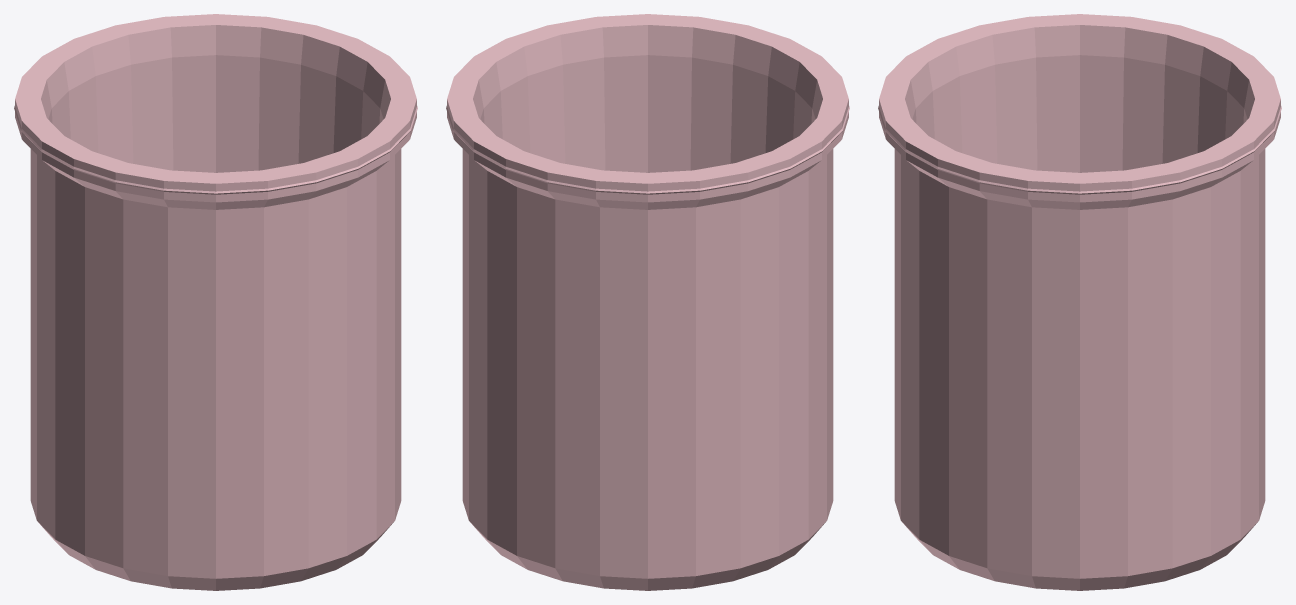
Rendered from item_64_water_cup.glb.
3 views of the same model, side by side, from view 1: azimuth 30°, elevation 25°; view 2: azimuth 150°, elevation 25°; view 3: azimuth 270°, elevation 25° (orthographic).
Visible parts, largest first — view 1: I64_Cup, I64_Rim; view 2: I64_Cup, I64_Rim; view 3: I64_Cup, I64_Rim.
Part boxes in pixels (x1=…): I64_Cup: x1=15, y1=14, x2=416, y2=590; I64_Rim: x1=14, y1=106, x2=417, y2=194; I64_Cup: x1=447, y1=14, x2=848, y2=590; I64_Rim: x1=446, y1=106, x2=849, y2=194; I64_Cup: x1=879, y1=14, x2=1280, y2=590; I64_Rim: x1=878, y1=106, x2=1281, y2=194.
Bounding box in the file's own units: 0.0784 × 0.09 × 0.0784.
